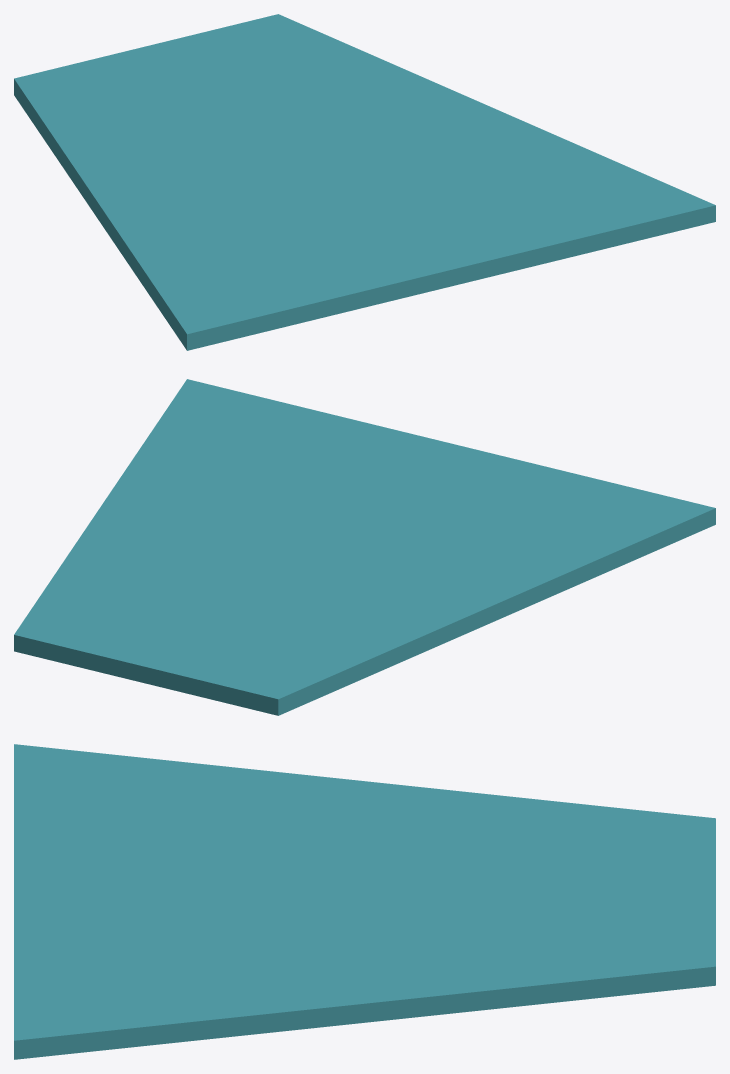
Rendered from W05_River_Widen_2to4.fbx.
3 views of the same model, one above another, from view 1: azimuth 30°, elevation 25°; view 2: azimuth 150°, elevation 25°; view 3: azimuth 270°, elevation 25° (orthographic). The views are drawn at different scales.
Visible parts, largest first — view 1: W05_River_Widen_2to4; view 2: W05_River_Widen_2to4; view 3: W05_River_Widen_2to4.
Part boxes in pixels (x1=…): W05_River_Widen_2to4: x1=14, y1=14, x2=715, y2=350; W05_River_Widen_2to4: x1=14, y1=379, x2=715, y2=715; W05_River_Widen_2to4: x1=14, y1=744, x2=715, y2=1059.
Size of the model in its own units: 4 by 0.12 by 4.
